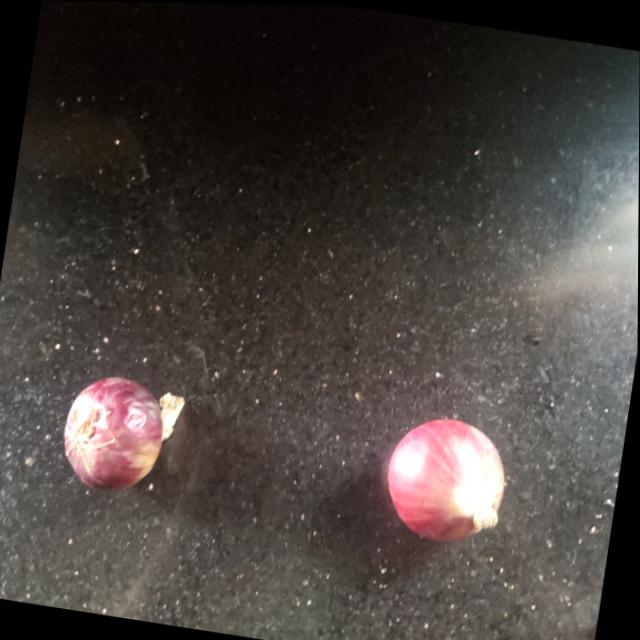onion: (378, 405, 513, 546), (59, 367, 171, 491)
